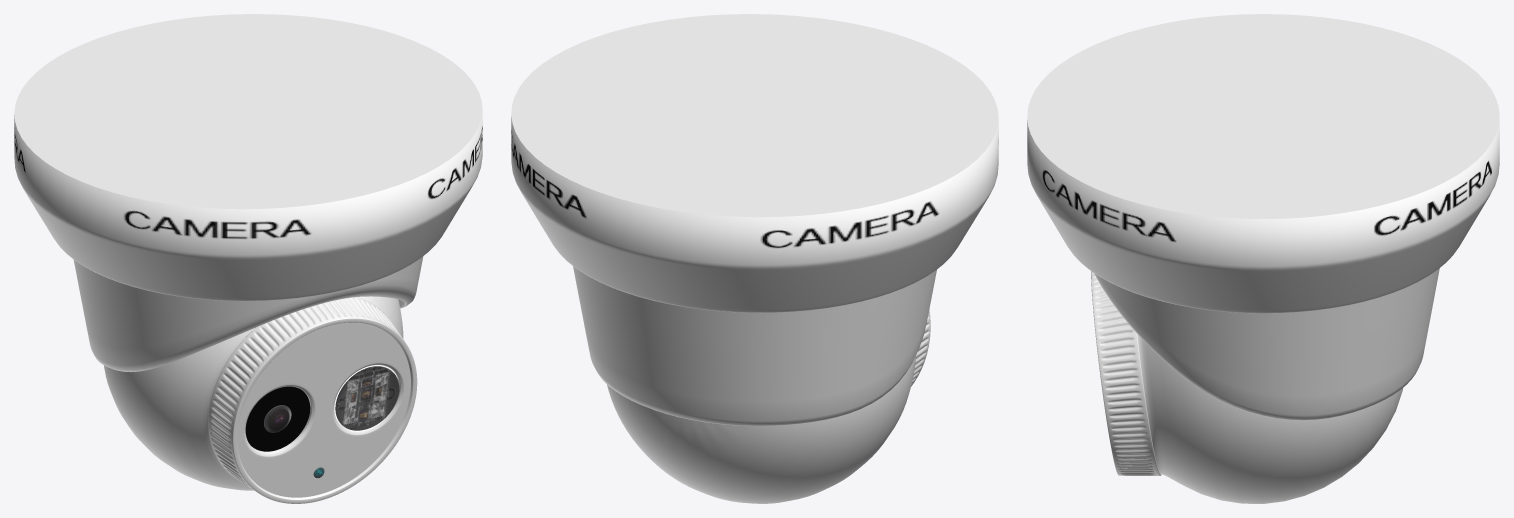
Rendered from yinpinqiuji.gltf.
3 renders of one model, left to right at view 1: azimuth 30°, elevation 25°; view 2: azimuth 150°, elevation 25°; view 3: azimuth 270°, elevation 25°, orthographic. The views are drawn at different scales.
Visible parts, largest first — view 1: 未命名; view 2: 未命名; view 3: 未命名.
Boxes of the visible parts, x1,y1,x2,y2 form: 未命名: (14,14,482,503); 未命名: (511,14,998,503); 未命名: (1027,14,1499,503).
Size of the model in its own units: 0.0507 by 0.043 by 0.0494.
1 material, 1 textured.
